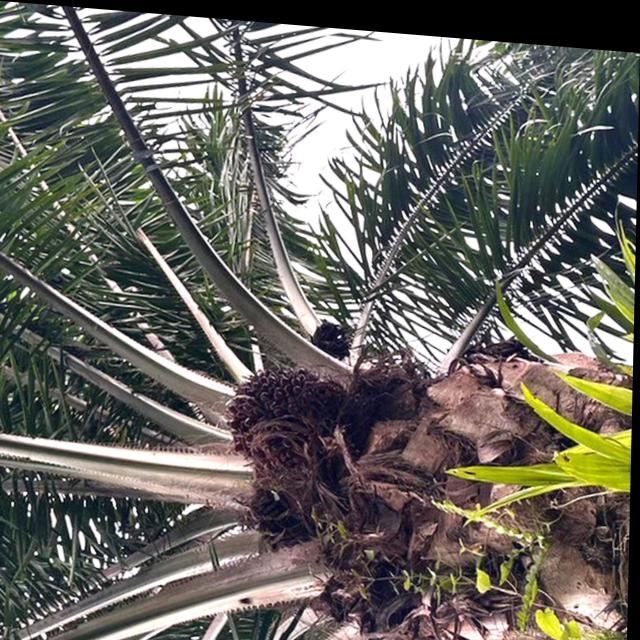ripe: (216, 349, 351, 492)
